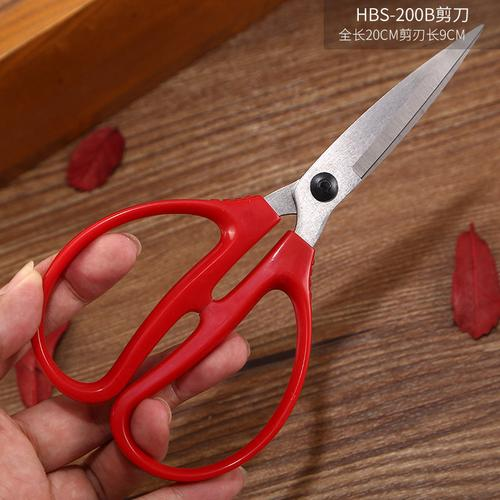scissor: (32, 25, 485, 482)
